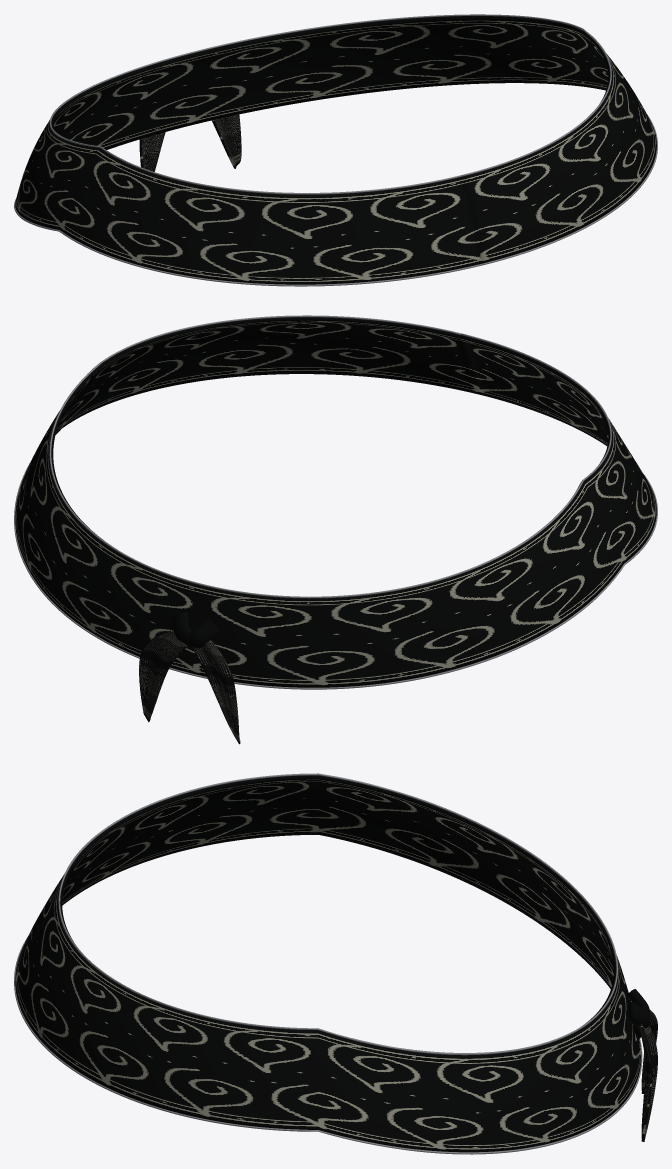
The model's file is Masculine-middle-part-bandana-headgear.glb.
The picture shows the model from 3 angles, top to bottom: view 1: azimuth 30°, elevation 25°; view 2: azimuth 150°, elevation 25°; view 3: azimuth 270°, elevation 25°; orthographic projection. The views are drawn at different scales.
Parts seen in each view (by area): view 1: 226 headgear / Headwear / bandana235, 226 headgear / Headwear / bandana hem235; view 2: 226 headgear / Headwear / bandana235, 226 headgear / Headwear / bandana hem235; view 3: 226 headgear / Headwear / bandana235, 226 headgear / Headwear / bandana hem235.
Boxes of the visible parts, box(x1,y1,x2,y2) form: 226 headgear / Headwear / bandana235: box(15, 16, 656, 284); 226 headgear / Headwear / bandana hem235: box(14, 14, 657, 286); 226 headgear / Headwear / bandana235: box(15, 317, 656, 744); 226 headgear / Headwear / bandana hem235: box(14, 315, 657, 689); 226 headgear / Headwear / bandana235: box(15, 775, 657, 1152); 226 headgear / Headwear / bandana hem235: box(14, 773, 642, 1154).
Size of the model in its own units: 1 by 0.3404 by 0.9093.
2 materials, 1 textured.
